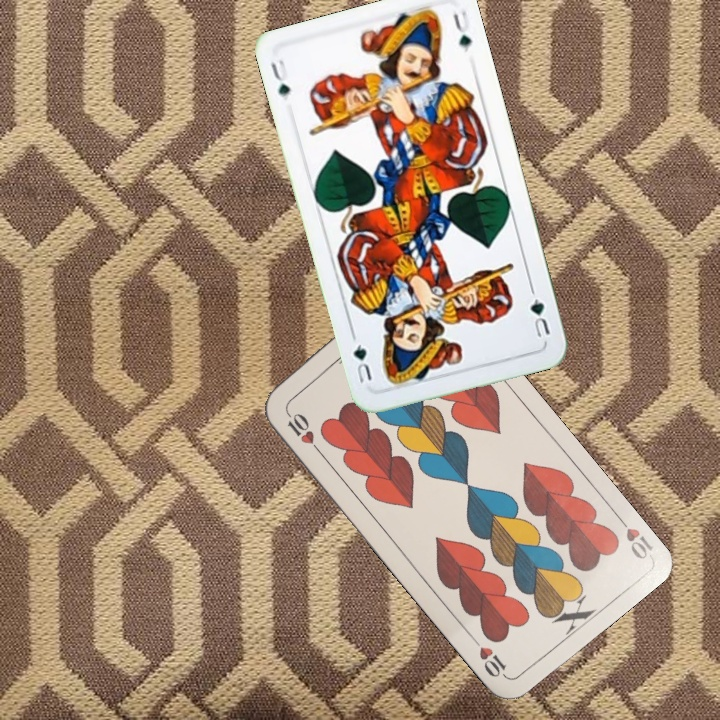GU: (526, 285, 553, 340), (266, 55, 293, 103)
H10: (611, 510, 655, 563), (281, 406, 324, 456)
